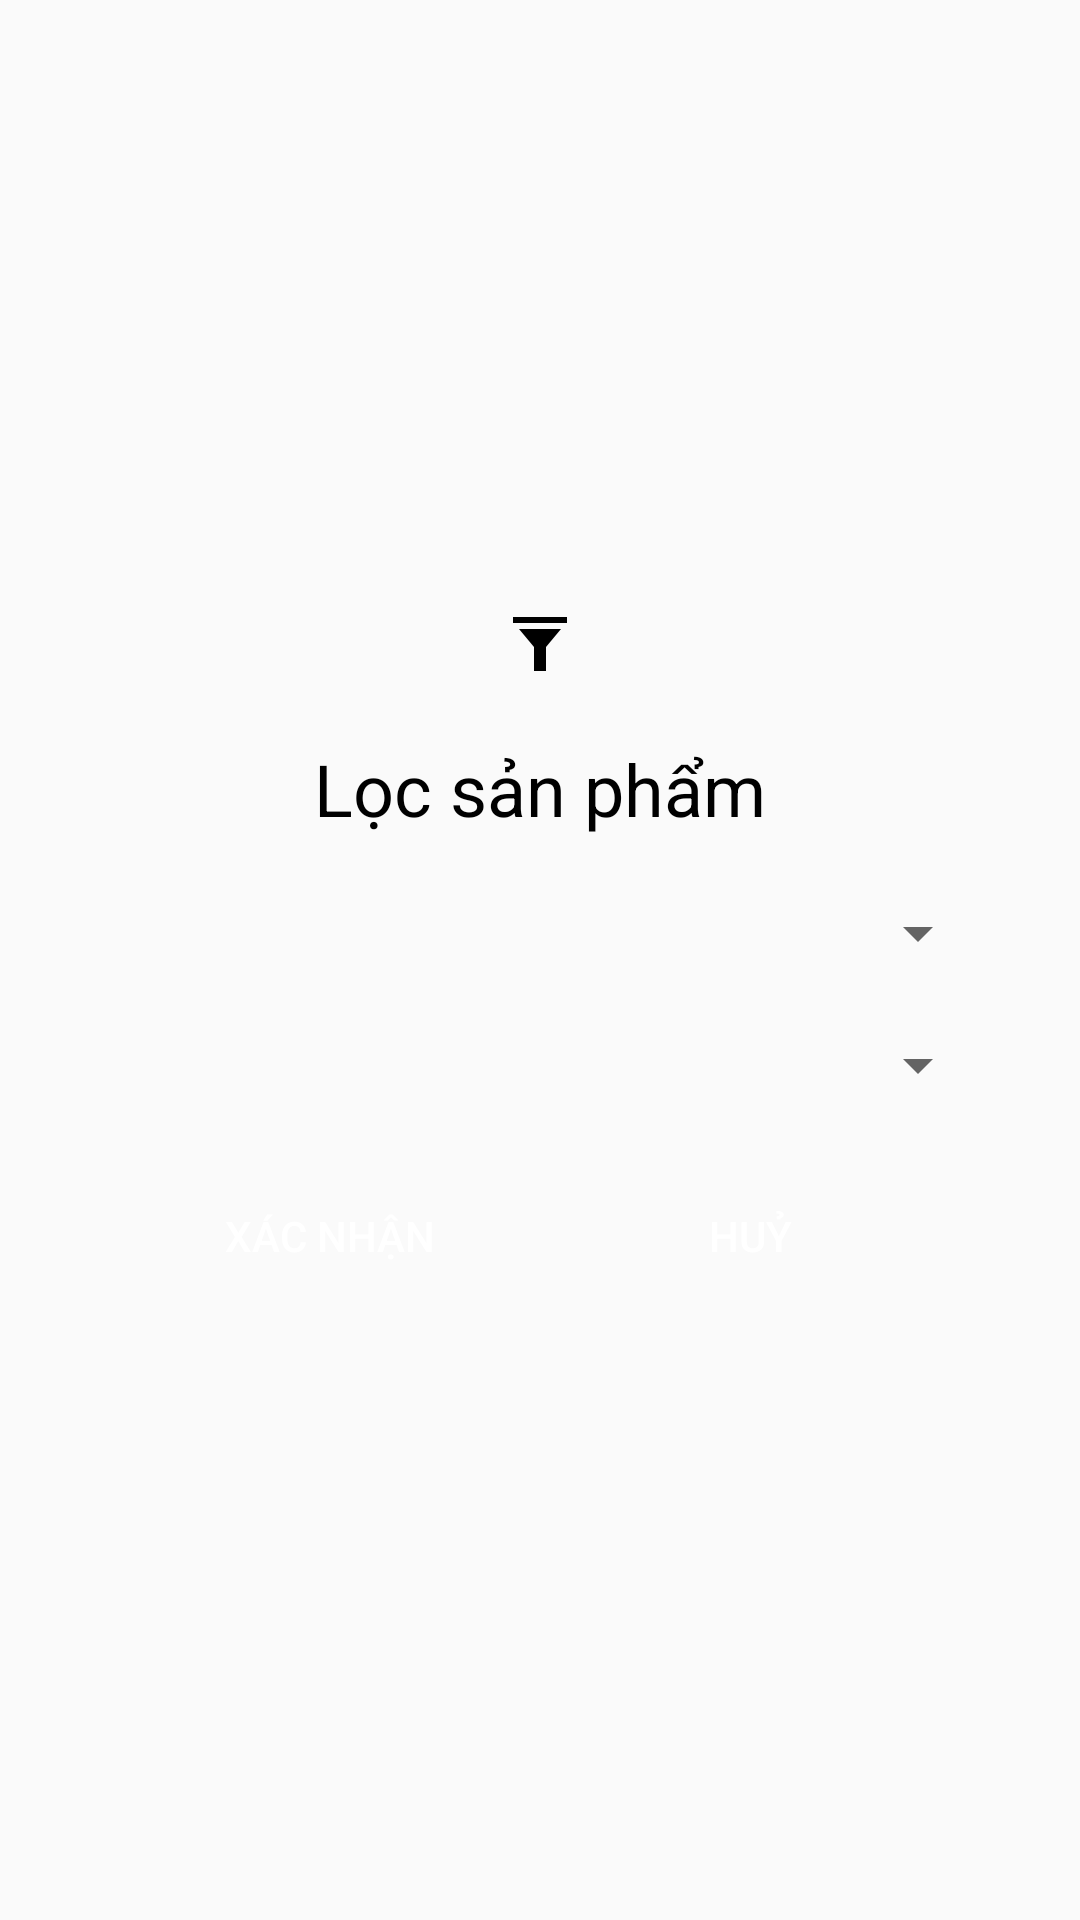

Icons on this 1080x1920 Android screen, each with the point to tap as (x=x, y=y):
filter: (x=540, y=644)
